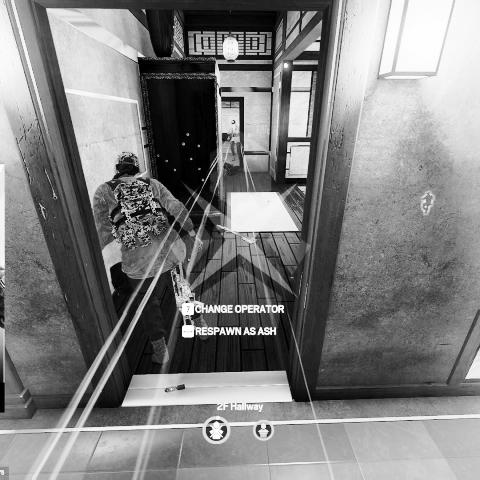Character: (94, 147, 213, 371), (228, 120, 242, 164)
Head: (112, 150, 142, 178), (230, 120, 237, 127)
